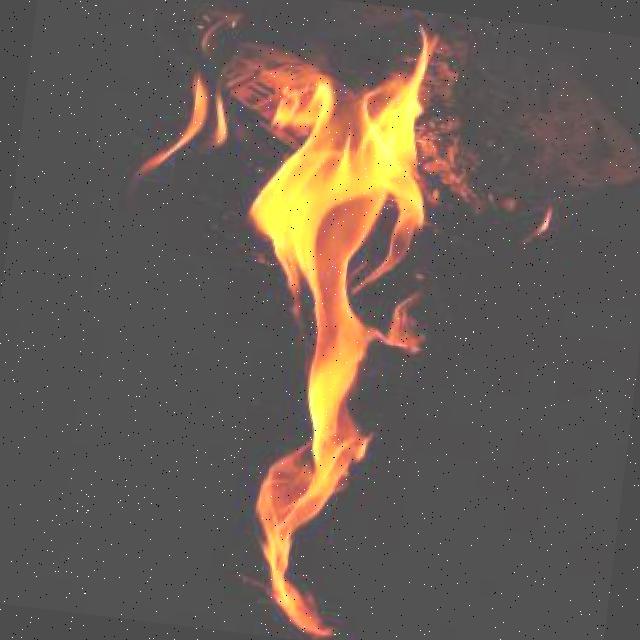fire: (100, 5, 512, 640)
